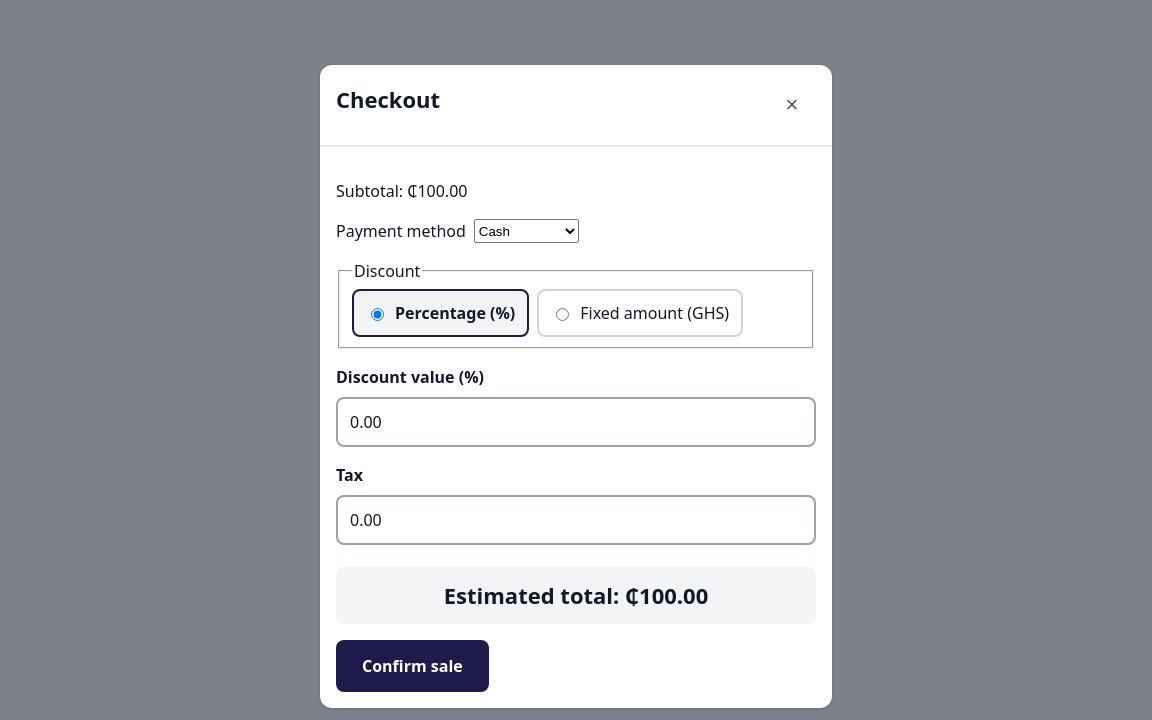
Test: CheckoutModal — validation (no parseFloat, regex-only) › rejects a percentage value with more than 2 decimal places
The width and height of the screenshot is (1152, 720).
Type "10.123" into the field labelled "Discount value (%)".
click(576, 422); type("10.123")  # box [336,397,816,447]
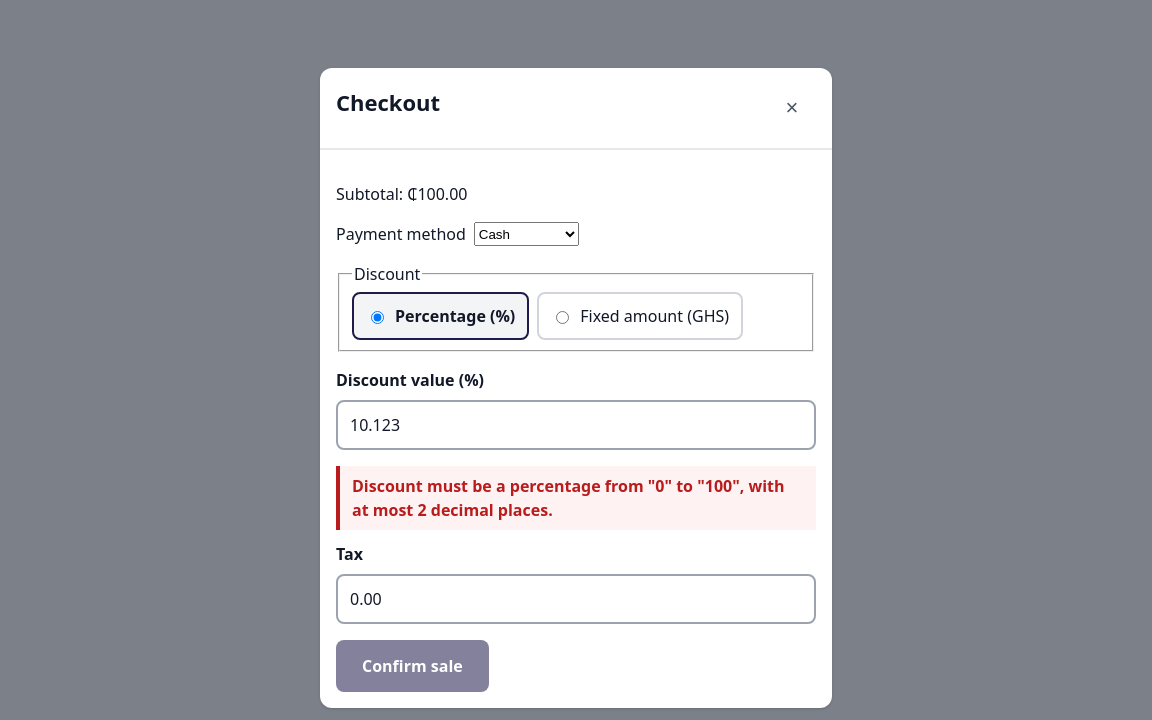
Check: the button "Confirm sale" is disabled, box [336,640,489,692]
